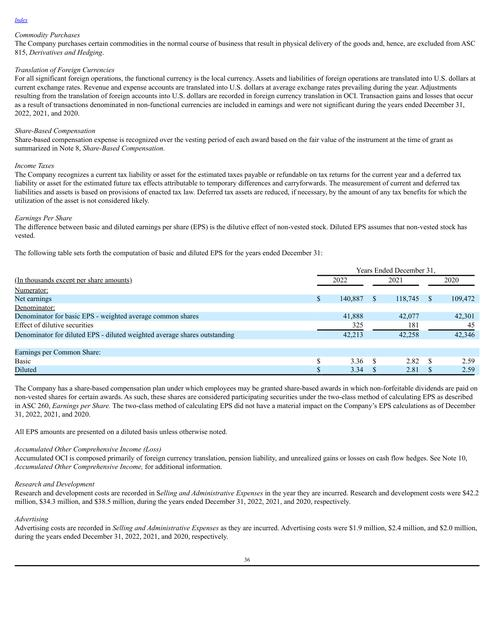box: (13, 264, 479, 373)
